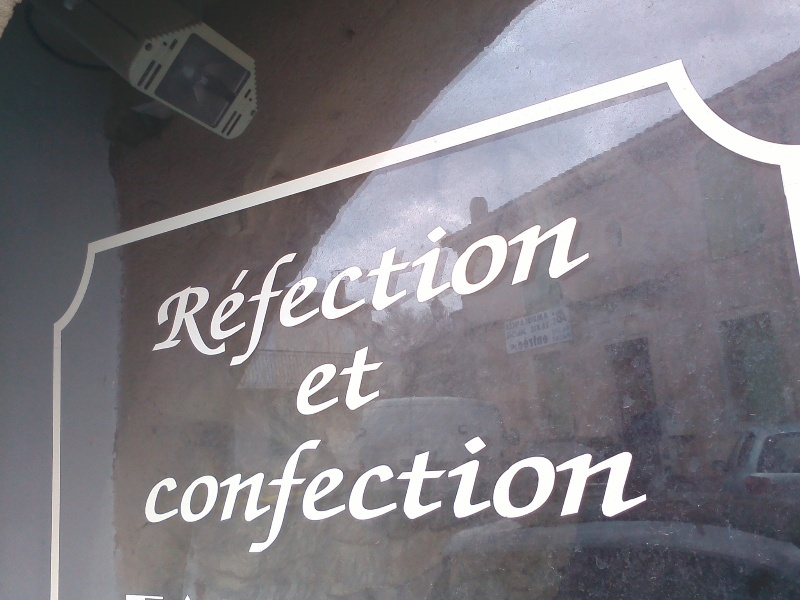text: (177, 190, 192, 383), (193, 190, 208, 383), (209, 190, 224, 383), (225, 190, 240, 383), (241, 190, 256, 383), (257, 190, 272, 383), (273, 190, 288, 383), (289, 190, 304, 383), (305, 190, 320, 383), (321, 190, 336, 383), (337, 190, 352, 383), (353, 190, 368, 383), (369, 190, 384, 383), (385, 190, 400, 383), (401, 190, 416, 383), (417, 190, 432, 383), (433, 190, 448, 383), (449, 190, 464, 383), (465, 190, 480, 383), (481, 190, 496, 383), (497, 190, 512, 383), (513, 190, 528, 383), (529, 190, 544, 383), (545, 190, 560, 383), (561, 190, 576, 383), (577, 190, 592, 383), (163, 190, 176, 383), (177, 431, 192, 564), (193, 431, 208, 564), (209, 431, 224, 564), (225, 431, 240, 564), (241, 431, 256, 564), (257, 431, 272, 564), (273, 431, 288, 564), (289, 431, 304, 564), (305, 431, 320, 564), (321, 431, 336, 564), (337, 431, 352, 564), (353, 431, 368, 564), (369, 431, 384, 564), (385, 431, 400, 564), (401, 431, 416, 564), (417, 431, 432, 564), (433, 431, 448, 564), (449, 431, 464, 564), (465, 431, 480, 564), (481, 431, 496, 564), (497, 431, 512, 564), (513, 431, 528, 564), (529, 431, 544, 564), (545, 431, 560, 564), (561, 431, 576, 564), (577, 431, 592, 564), (593, 431, 608, 564), (609, 431, 624, 564), (625, 431, 640, 564), (163, 431, 176, 564), (641, 431, 652, 564), (321, 342, 336, 422), (337, 342, 352, 422), (353, 342, 368, 422), (369, 342, 384, 422), (308, 342, 320, 422), (593, 190, 596, 383), (513, 325, 528, 357), (529, 325, 544, 357), (545, 325, 560, 357), (561, 325, 573, 357), (513, 317, 528, 341), (529, 317, 544, 341), (545, 317, 560, 341), (385, 342, 389, 422), (513, 311, 528, 332), (529, 311, 544, 332), (504, 317, 512, 341), (561, 317, 569, 341), (507, 325, 512, 357), (505, 311, 512, 332), (545, 311, 551, 332)
